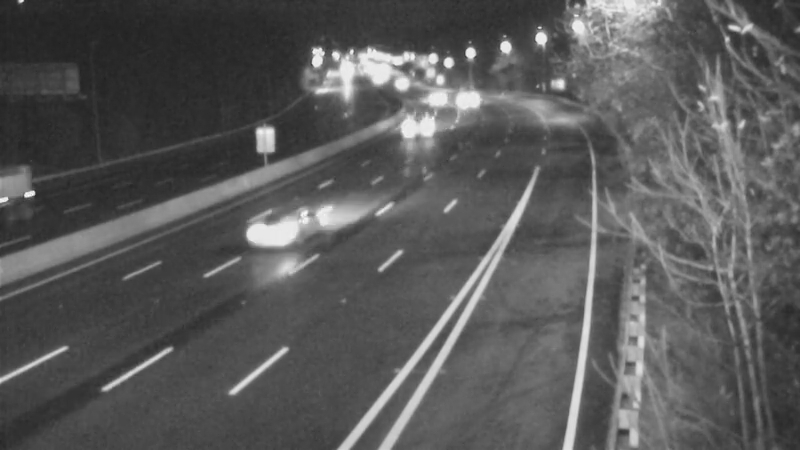vehicle: (251, 195, 331, 275), (1, 158, 69, 238), (373, 56, 423, 106), (414, 70, 464, 120), (439, 73, 489, 123), (389, 100, 439, 150)
